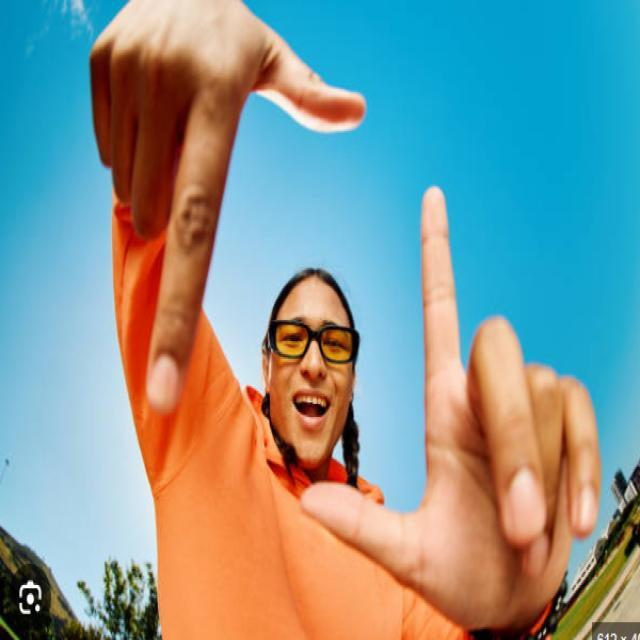face_no_mask: (272, 278, 361, 459)
